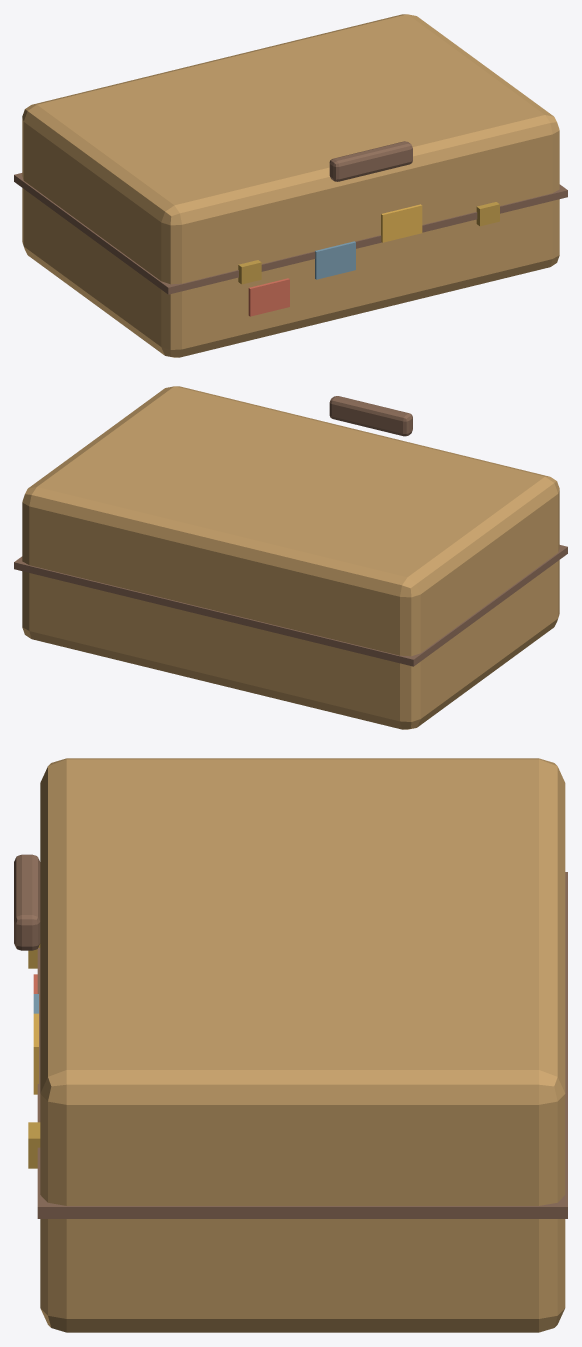
Rendered from hh_old_suitcase.glb.
3 renders of one model, top to bottom at view 1: azimuth 30°, elevation 25°; view 2: azimuth 150°, elevation 25°; view 3: azimuth 270°, elevation 25°, orthographic. The views are drawn at different scales.
Visible parts, largest first — view 1: case, seam, handle, sticker, sticker.002, sticker.001, clasp, clasp.001; view 2: case, seam, handle; view 3: case, seam, handle.
Boxes of the visible parts, x1,y1,x2,y2 form: case: (22, 14, 559, 357); seam: (14, 173, 567, 294); handle: (329, 141, 412, 181); sticker: (248, 278, 289, 316); sticker.002: (381, 204, 422, 242); sticker.001: (315, 241, 355, 279); clasp: (238, 260, 261, 284); clasp.001: (476, 202, 499, 226); case: (22, 386, 559, 729); seam: (14, 545, 567, 666); handle: (329, 396, 412, 436); case: (40, 758, 565, 1332); seam: (37, 872, 567, 1218); handle: (14, 854, 40, 950).
Size of the model in its own units: 0.604 by 0.245 by 0.422.
